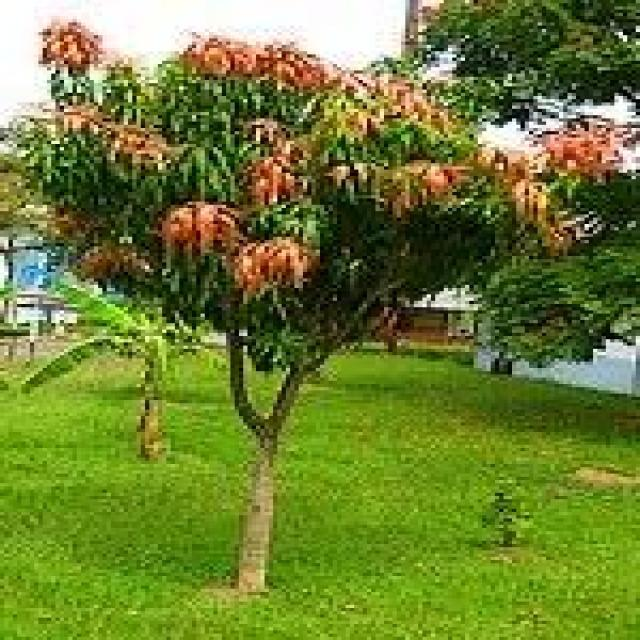Tree: (48, 31, 523, 612)
